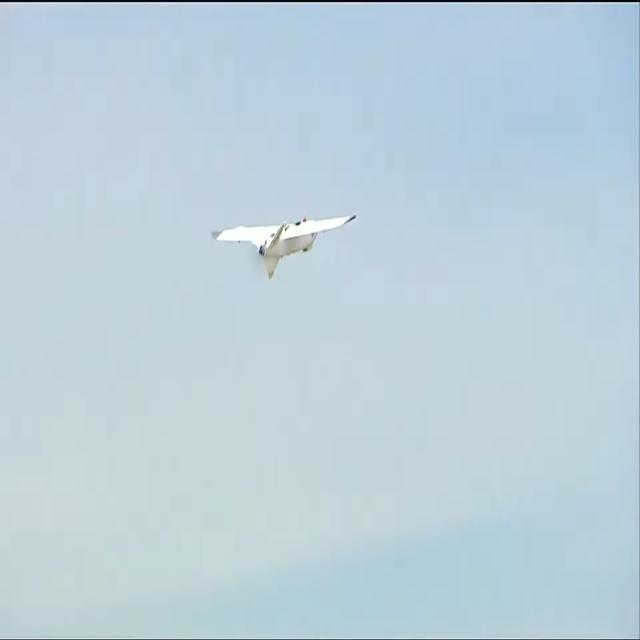iha: (212, 246, 359, 248)
